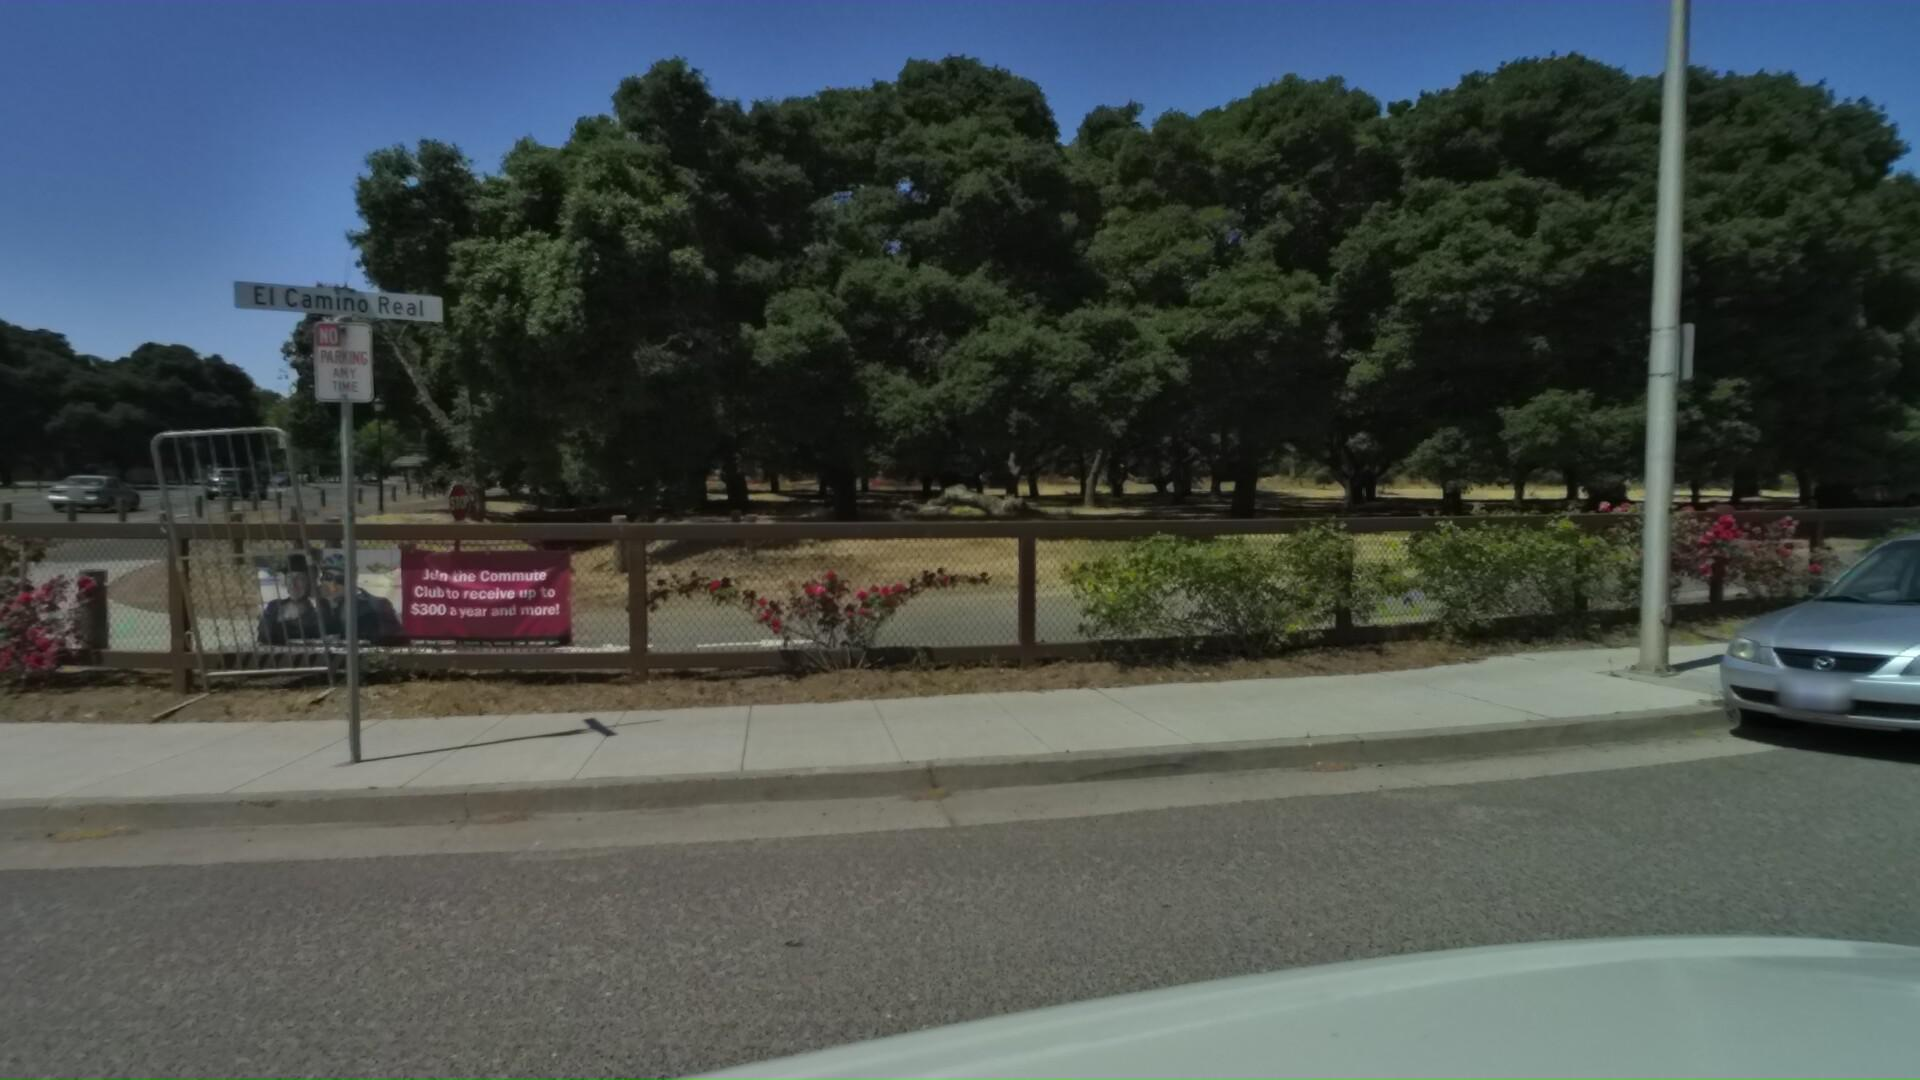car: (1679, 512, 1920, 785), (49, 469, 154, 512), (208, 467, 274, 501)
